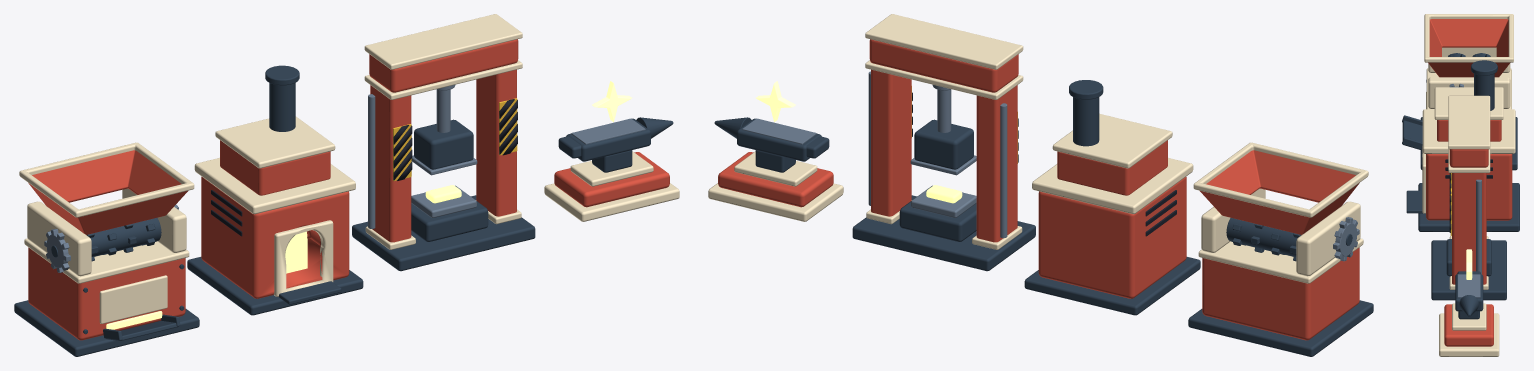
File: SF_Machines.fbx
The picture shows the model from 3 angles, left to right: view 1: azimuth 30°, elevation 25°; view 2: azimuth 150°, elevation 25°; view 3: azimuth 270°, elevation 25°; orthographic projection. The views are drawn at different scales.
Parts seen in each view (by area): view 1: Forge__Pillars__Red, Crusher__Trim__Cream, Smelter__Body__Red, Smelter__Trim__Cream, Crusher__Hopper__Red, Crusher__Body__Red, Forge__Trim__Cream, Forge__Base__Steel, StarAnvil__Pedestal__Cream, Forge__Hammer__Steel, Smelter__Upper__Red, Forge__Bed__Steel (+16 smaller); view 2: Forge__Pillars__Red, Smelter__Body__Red, Crusher__Body__Red, Crusher__Trim__Cream, Crusher__Hopper__Red, Smelter__Trim__Cream, Forge__Trim__Cream, Forge__Base__Steel, StarAnvil__Pedestal__Cream, Forge__Hammer__Steel, Crusher__Base__Steel, Smelter__Upper__Red (+11 smaller); view 3: Forge__Pillars__Red, Crusher__Hopper__Red, Smelter__Body__Red, Crusher__Trim__Cream, Smelter__Trim__Cream, Forge__Trim__Cream, Forge__Base__Steel, StarAnvil__Pedestal__Cream, StarAnvil__PedestalRed__Red, Smelter__Base__Steel, Smelter__Chimney__Steel, StarAnvil__Anvil__Steel (+9 smaller).
Part boxes in pixels (bbox=[...]): Forge__Pillars__Red: bbox=[369, 39, 518, 242]; Crusher__Trim__Cream: bbox=[19, 142, 194, 323]; Smelter__Body__Red: bbox=[201, 176, 349, 298]; Smelter__Trim__Cream: bbox=[194, 116, 355, 296]; Crusher__Hopper__Red: bbox=[28, 150, 187, 234]; Crusher__Body__Red: bbox=[28, 247, 185, 340]; Forge__Trim__Cream: bbox=[364, 14, 522, 249]; Forge__Base__Steel: bbox=[352, 195, 535, 271]; StarAnvil__Pedestal__Cream: bbox=[544, 151, 679, 221]; Forge__Hammer__Steel: bbox=[411, 89, 477, 175]; Smelter__Upper__Red: bbox=[220, 140, 330, 195]; Forge__Bed__Steel: bbox=[411, 185, 488, 241]; Forge__Pillars__Red: bbox=[869, 39, 1018, 242]; Smelter__Body__Red: bbox=[1038, 177, 1186, 298]; Crusher__Body__Red: bbox=[1202, 247, 1359, 340]; Crusher__Trim__Cream: bbox=[1193, 142, 1368, 283]; Crusher__Hopper__Red: bbox=[1200, 150, 1359, 234]; Smelter__Trim__Cream: bbox=[1032, 113, 1193, 214]; Forge__Trim__Cream: bbox=[865, 14, 1023, 249]; Forge__Base__Steel: bbox=[852, 195, 1035, 271]; StarAnvil__Pedestal__Cream: bbox=[708, 151, 843, 221]; Forge__Hammer__Steel: bbox=[910, 89, 976, 175]; Crusher__Base__Steel: bbox=[1188, 300, 1373, 356]; Smelter__Upper__Red: bbox=[1057, 140, 1167, 195]; Forge__Pillars__Red: bbox=[1449, 149, 1488, 284]; Crusher__Hopper__Red: bbox=[1428, 19, 1510, 77]; Smelter__Body__Red: bbox=[1426, 154, 1512, 220]; Crusher__Trim__Cream: bbox=[1424, 14, 1513, 109]; Smelter__Trim__Cream: bbox=[1422, 87, 1515, 213]; Forge__Trim__Cream: bbox=[1448, 95, 1490, 289]; Forge__Base__Steel: bbox=[1431, 240, 1506, 300]; StarAnvil__Pedestal__Cream: bbox=[1439, 303, 1499, 356]; StarAnvil__PedestalRed__Red: bbox=[1444, 304, 1493, 346]; Smelter__Base__Steel: bbox=[1418, 183, 1519, 231]; Smelter__Chimney__Steel: bbox=[1471, 60, 1497, 110]; StarAnvil__Anvil__Steel: bbox=[1455, 271, 1483, 319].
Bounding box in the file's own units: 52.25 × 15.83 × 10.92.
